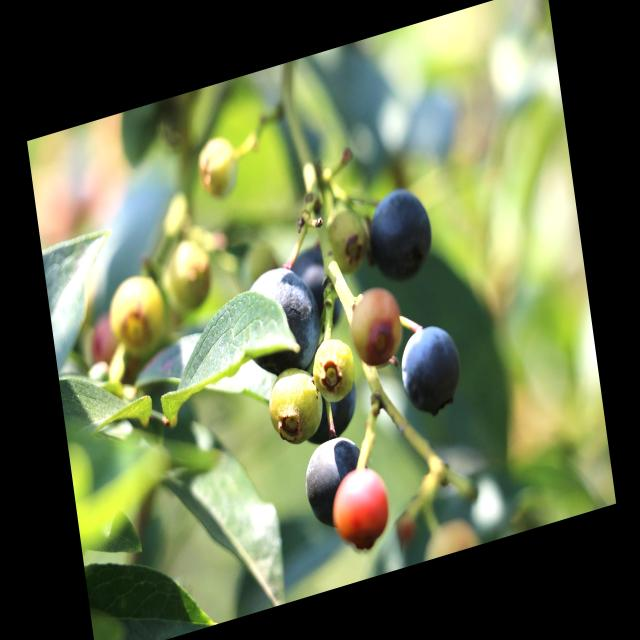blueberry: (248, 258, 321, 384), (365, 182, 436, 288), (301, 428, 374, 528), (398, 316, 464, 416), (289, 238, 346, 349), (300, 375, 364, 447)
blueberry-halfripe: (328, 456, 392, 554)
blueberry-unripe: (261, 356, 325, 451), (106, 264, 166, 362), (345, 280, 405, 370), (162, 232, 215, 310), (310, 326, 360, 406), (193, 130, 242, 208)
